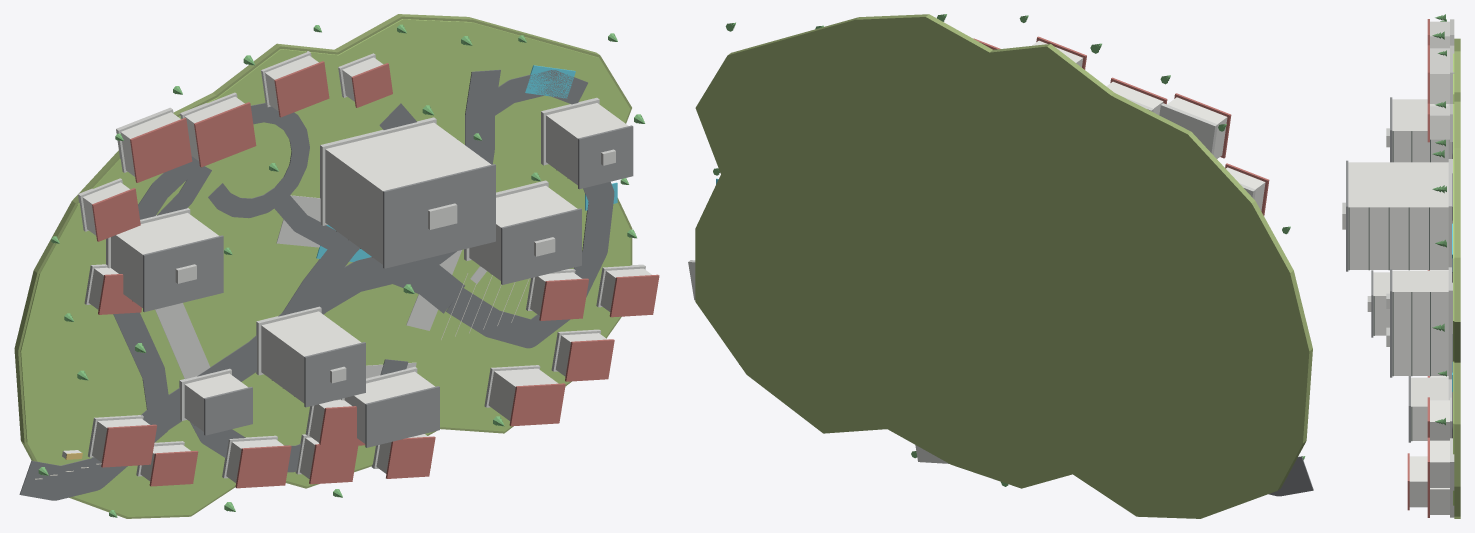
The model's file is resort.glb.
3 renders of one model, left to right at view 1: azimuth 30°, elevation 25°; view 2: azimuth 150°, elevation 25°; view 3: azimuth 270°, elevation 25°, orthographic. The views are drawn at different scales.
Visible parts, largest first — view 1: site_grass_surface, central_main_hotel_mass, central_main_hotel_roof, southwest_to_main_drive, irregular_terrain_edge, east_parking_south_loop, central_front_hotel_mass, west_guest_wing_roof, east_guest_wing_roof, west_amenity_drive, west_guest_wing_mass, central_garden_loop (+43 smaller); view 2: irregular_terrain_edge, Theatre_pad, Theatre_walls, entry_access_road; view 3: central_main_hotel_mass, east_guest_annex_mass, irregular_terrain_edge, west_guest_wing_mass, east_guest_wing_mass, south_service_block_mass, central_front_hotel_mass, Kumbakarna_Villa_walls, Trijata_Villa_walls, Pendopo_Kiskenda_walls, site_grass_surface, Lokal_Farm_House_walls (+15 smaller).
Part boxes in pixels (left/top/right/bottom): site_grass_surface: left=20, top=19, right=630, bottom=516; central_main_hotel_mass: left=325, top=122, right=491, bottom=264; central_main_hotel_roof: left=383, top=164, right=495, bottom=268; southwest_to_main_drive: left=159, top=257, right=464, bottom=431; irregular_terrain_edge: left=14, top=14, right=632, bottom=518; east_parking_south_loop: left=446, top=181, right=614, bottom=348; central_front_hotel_mass: left=261, top=311, right=361, bottom=403; west_guest_wing_roof: left=143, top=235, right=223, bottom=312; east_guest_wing_roof: left=501, top=208, right=581, bottom=284; west_amenity_drive: left=113, top=156, right=199, bottom=422; west_guest_wing_mass: left=111, top=213, right=218, bottom=307; central_garden_loop: left=208, top=103, right=309, bottom=218; irregular_terrain_edge: left=695, top=14, right=1312, bottom=518; Theatre_pad: left=1159, top=103, right=1217, bottom=154; Theatre_walls: left=1167, top=97, right=1227, bottom=158; entry_access_road: left=1268, top=456, right=1313, bottom=496; central_main_hotel_mass: left=1348, top=162, right=1448, bottom=269; east_guest_annex_mass: left=1392, top=270, right=1448, bottom=331; irregular_terrain_edge: left=1454, top=38, right=1460, bottom=518; west_guest_wing_mass: left=1392, top=99, right=1448, bottom=162; east_guest_wing_mass: left=1392, top=331, right=1448, bottom=375; south_service_block_mass: left=1411, top=377, right=1448, bottom=440; central_front_hotel_mass: left=1373, top=272, right=1389, bottom=335; Kumbakarna_Villa_walls: left=1409, top=456, right=1427, bottom=507; Trijata_Villa_walls: left=1430, top=440, right=1449, bottom=487; Pendopo_Kiskenda_walls: left=1430, top=61, right=1449, bottom=103; site_grass_surface: left=1453, top=53, right=1454, bottom=505; Lokal_Farm_House_walls: left=1430, top=400, right=1449, bottom=440.
Bounding box in the file's own units: 97.79 × 71.14 × 18.85.
